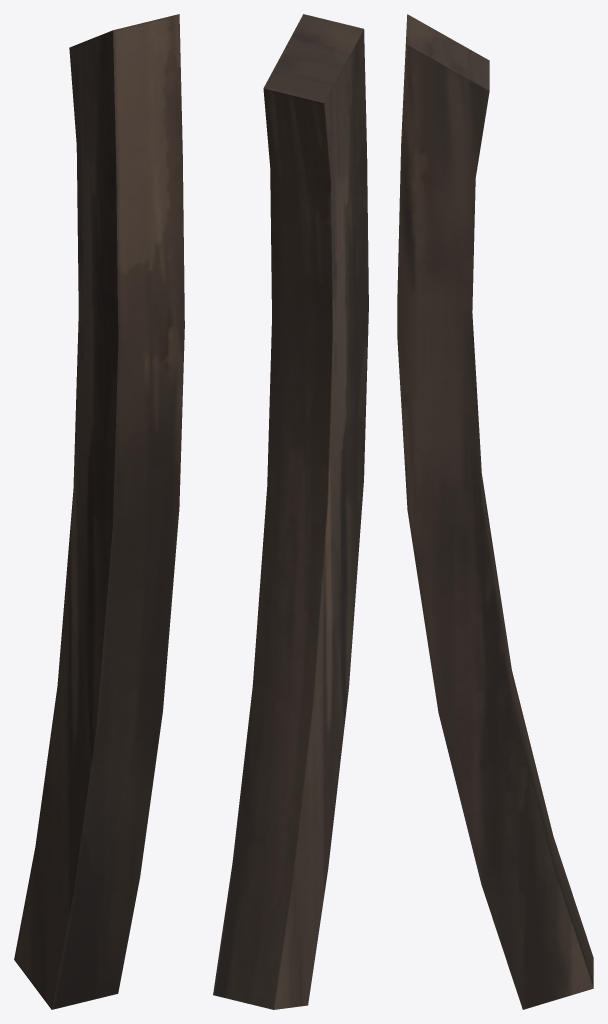
File: SM_WoodenBeam_05.fbx
3 views of the same model, side by side, from view 1: azimuth 30°, elevation 25°; view 2: azimuth 150°, elevation 25°; view 3: azimuth 270°, elevation 25° (orthographic). The views are drawn at different scales.
Visible parts, largest first — view 1: SM_WoodenBeam_05_LOD0; view 2: SM_WoodenBeam_05_LOD0; view 3: SM_WoodenBeam_05_LOD0.
Part boxes in pixels (<box>): SM_WoodenBeam_05_LOD0: <box>14,14,184,1009</box>; SM_WoodenBeam_05_LOD0: <box>213,14,368,1009</box>; SM_WoodenBeam_05_LOD0: <box>397,14,593,1009</box>.
Size of the model in its own units: 25.29 by 68.68 by 372.
Materials: 1 (1 with a texture image).
